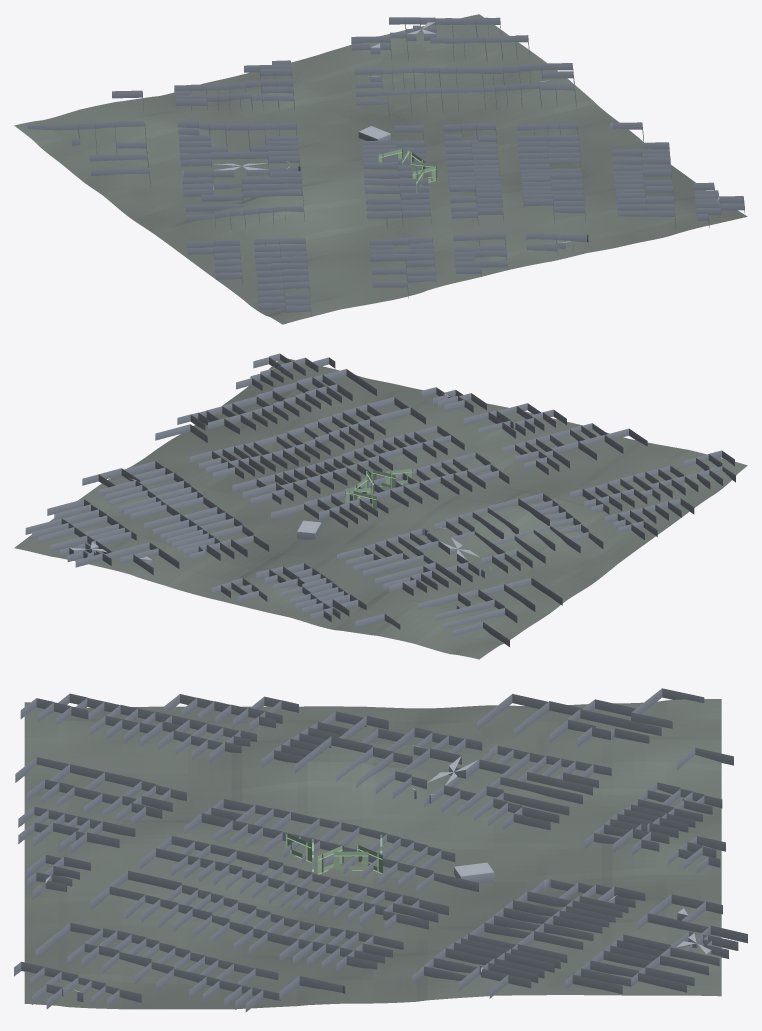
The model's file is condesa_chisel_collider.glb.
The picture shows the model from 3 angles, top to bottom: view 1: azimuth 30°, elevation 25°; view 2: azimuth 150°, elevation 25°; view 3: azimuth 270°, elevation 25°; orthographic projection. The views are drawn at different scales.
Visible parts, largest first — view 1: DISTRICT_CHISEL_COLLIDER; view 2: DISTRICT_CHISEL_COLLIDER; view 3: DISTRICT_CHISEL_COLLIDER.
Boxes of the visible parts, x1,y1,x2,y2 form: DISTRICT_CHISEL_COLLIDER: (14,14,747,324); DISTRICT_CHISEL_COLLIDER: (14,353,747,659); DISTRICT_CHISEL_COLLIDER: (14,688,747,1012).
Size of the model in its own units: 167 by 7.54 by 168.
